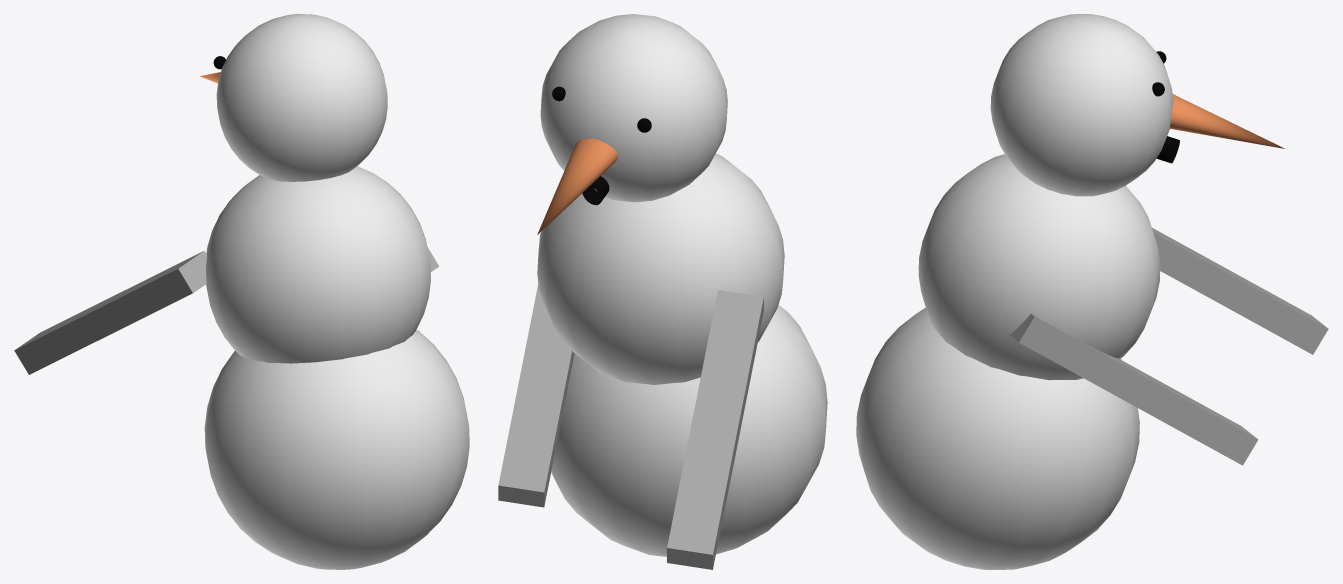
File: olaf_the_snowman.fbx
3 renders of one model, left to right at view 1: azimuth 30°, elevation 25°; view 2: azimuth 150°, elevation 25°; view 3: azimuth 270°, elevation 25°, orthographic. The views are drawn at different scales.
Parts seen in each view (by area): view 1: pSphere12; view 2: pSphere12; view 3: pSphere12.
Boxes of the visible parts, x1,y1,x2,y2 form: pSphere12: [14, 14, 469, 569]; pSphere12: [498, 14, 827, 569]; pSphere12: [856, 14, 1328, 569].
Size of the model in its own units: 7.45 by 12.36 by 9.86.
